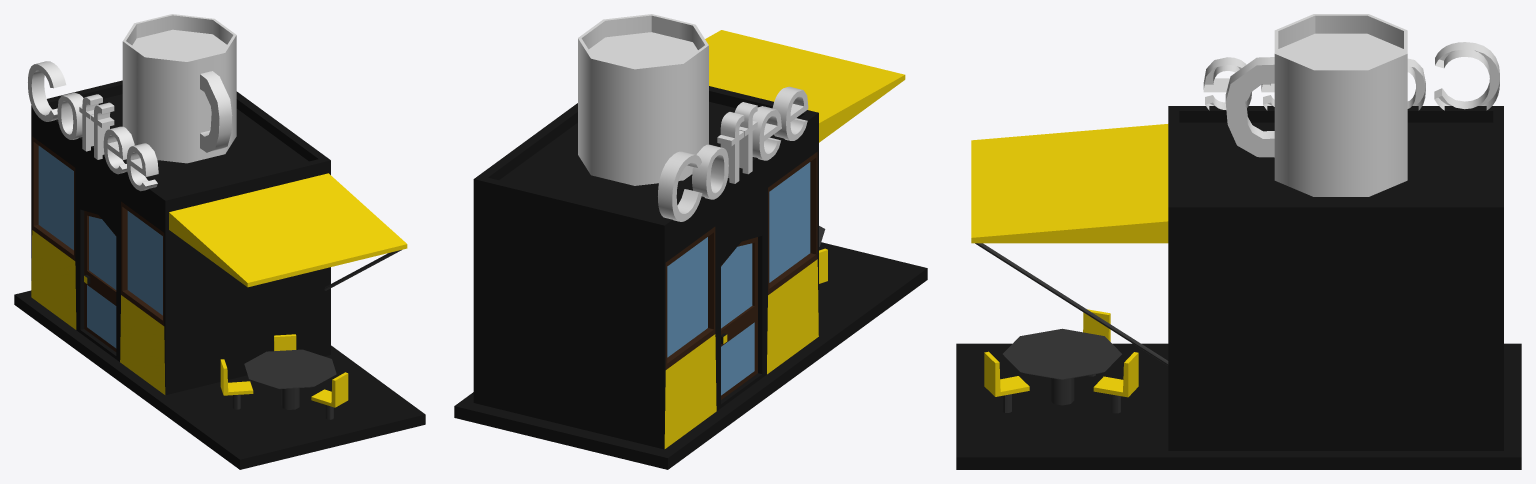
The model's file is Shop_Coffee_B.fbx.
3 renders of one model, left to right at view 1: azimuth 30°, elevation 25°; view 2: azimuth 150°, elevation 25°; view 3: azimuth 270°, elevation 25°, orthographic. The views are drawn at different scales.
Parts seen in each view (by area): view 1: Shop_Coffee_B; view 2: Shop_Coffee_B; view 3: Shop_Coffee_B.
Boxes of the visible parts, box(x1,y1,x2,y2) form: Shop_Coffee_B: box(14, 14, 425, 469); Shop_Coffee_B: box(454, 14, 927, 469); Shop_Coffee_B: box(956, 14, 1521, 469).
Bounding box in the file's own units: 65.36 × 99.86 × 138.
